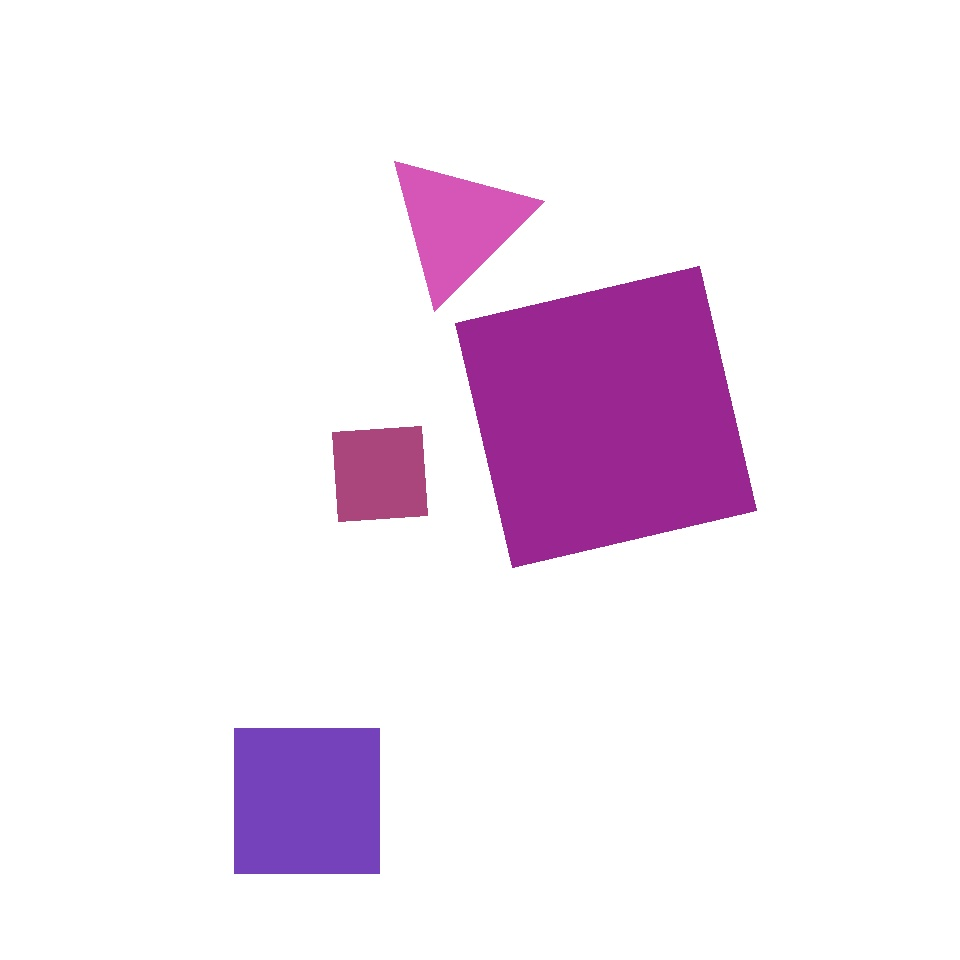circle: (383, 150, 533, 300)
square: (456, 266, 756, 568), (490, 524, 674, 706), (188, 366, 356, 534), (234, 728, 379, 874), (332, 426, 428, 522)
triangle: (543, 457, 762, 676), (36, 402, 166, 534)
